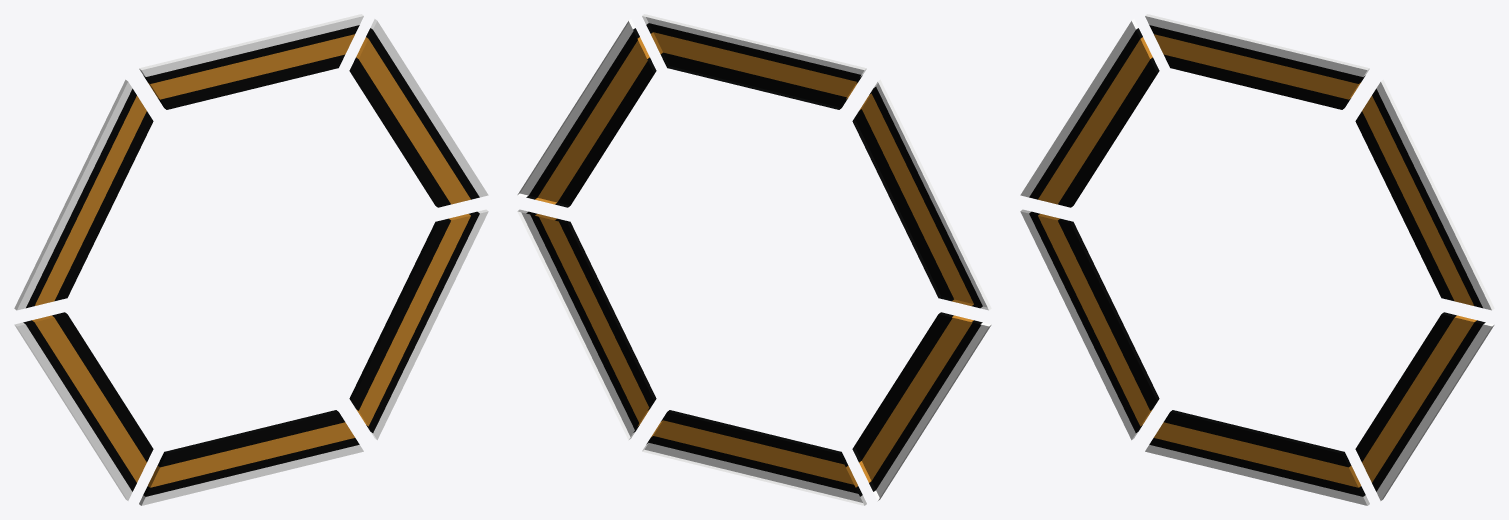
File: SM_Marker_TeamRing_P2.obj
The picture shows the model from 3 angles, left to right: view 1: azimuth 30°, elevation 25°; view 2: azimuth 150°, elevation 25°; view 3: azimuth 330°, elevation 25°; orthographic projection.
Visible parts, largest first — view 1: SM_Marker_TeamRing_P2; view 2: SM_Marker_TeamRing_P2; view 3: SM_Marker_TeamRing_P2.
Part boxes in pixels (box(x1,y1,x2,y2)): SM_Marker_TeamRing_P2: box(14, 14, 488, 505); SM_Marker_TeamRing_P2: box(517, 14, 991, 505); SM_Marker_TeamRing_P2: box(1020, 14, 1494, 505).
Size of the model in its own units: 61.78 by 54.5 by 0.6.
